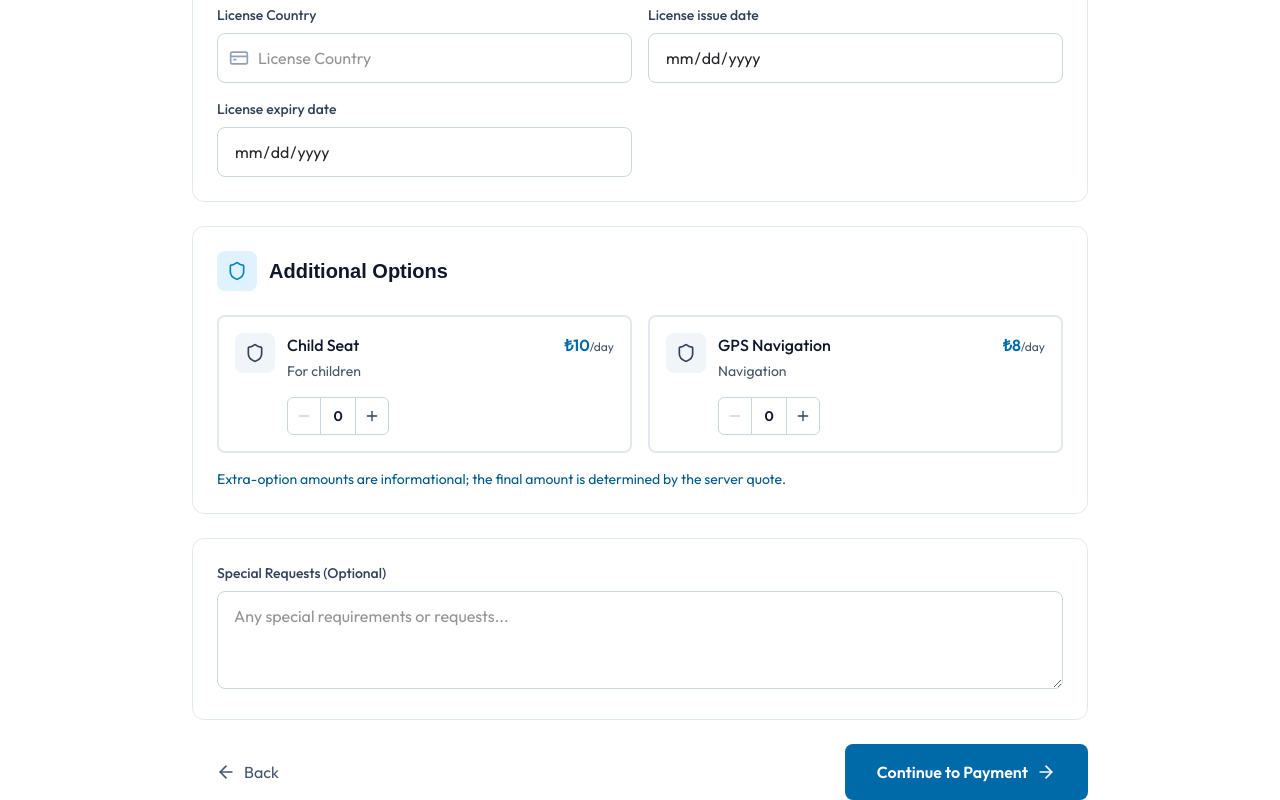
Test: BookingStep3Page › validates required customer details before advancing
(page scrolled)
Click the button "Continue to Payment" at point(966, 772), box [845, 744, 1088, 799]
(page scrolled)
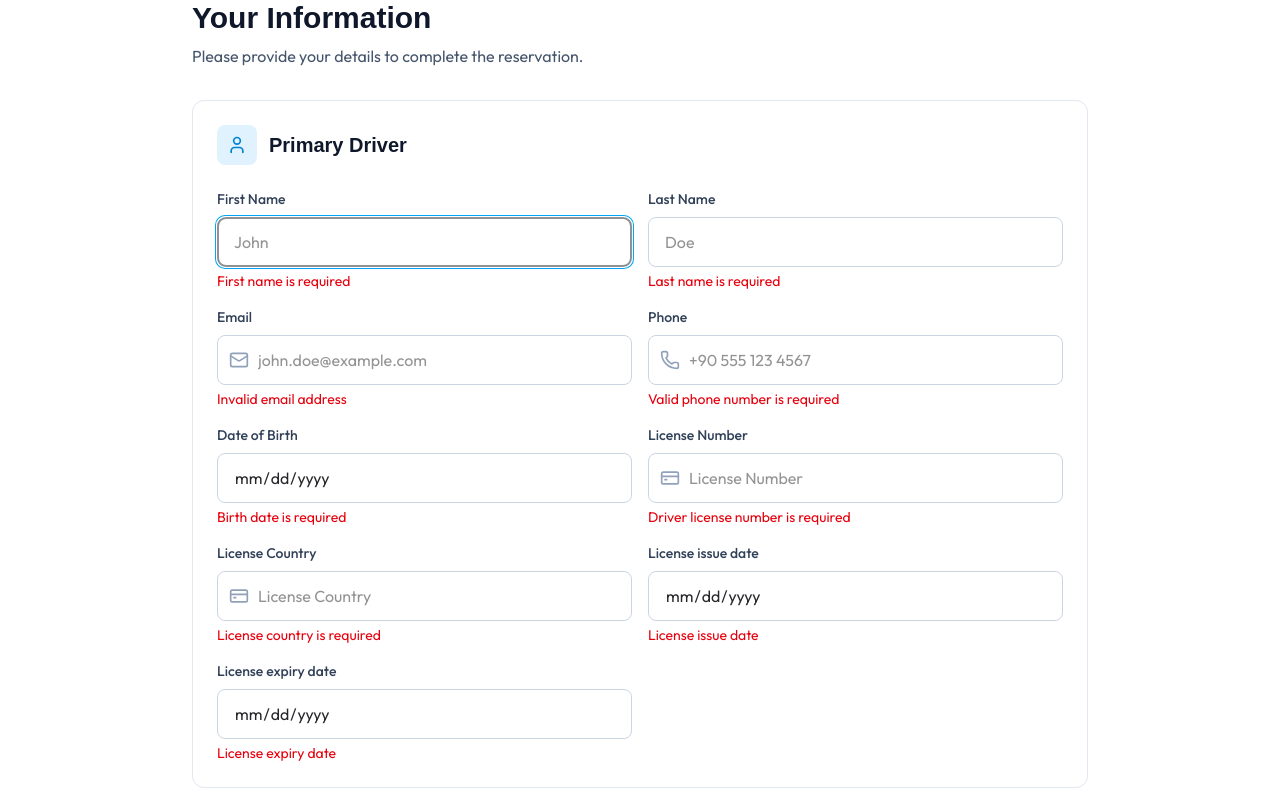
Result: the text "First name is required" is shown at [217, 272, 350, 290]
Result: the text "Last name is required" is shown at [648, 272, 780, 290]
Result: the text "Invalid email address" is shown at [217, 390, 347, 408]
